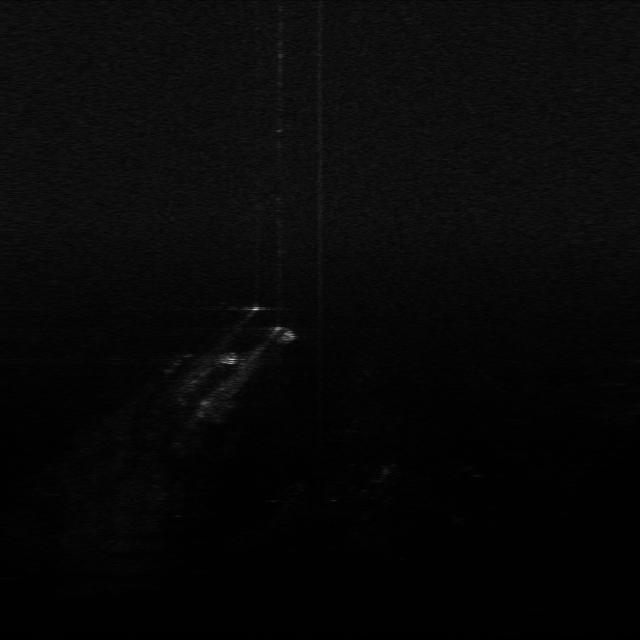rov: (217, 350, 242, 368)
